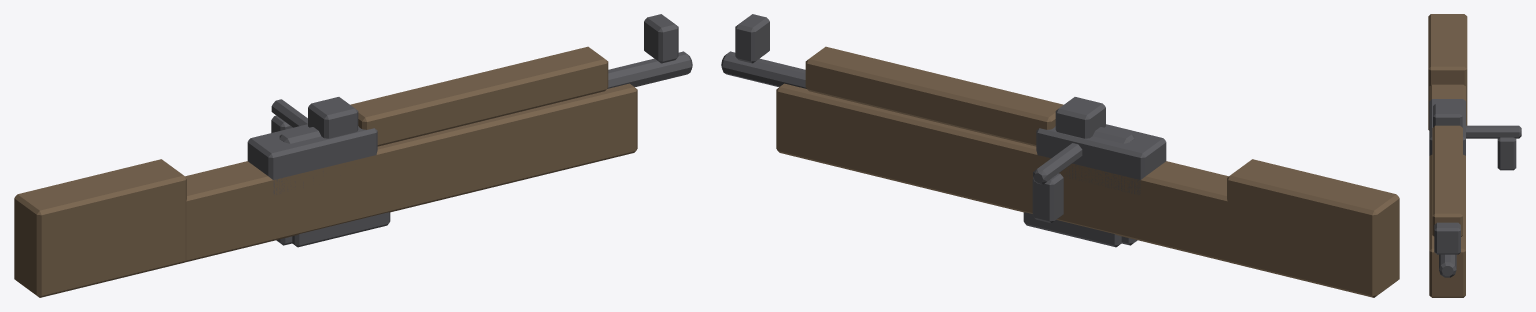
Rendered from weapon_rifle_germany.glb.
3 renders of one model, left to right at view 1: azimuth 30°, elevation 25°; view 2: azimuth 150°, elevation 25°; view 3: azimuth 270°, elevation 25°, orthographic. The views are drawn at different scales.
Parts seen in each view (by area): view 1: weapon_rifle_germany; view 2: weapon_rifle_germany; view 3: weapon_rifle_germany.
Part boxes in pixels (left/top/right/bottom): weapon_rifle_germany: left=14, top=14, right=692, bottom=297; weapon_rifle_germany: left=721, top=14, right=1399, bottom=297; weapon_rifle_germany: left=1428, top=14, right=1521, bottom=297.
Bounding box in the file's own units: 0.97 × 0.18 × 0.158.
